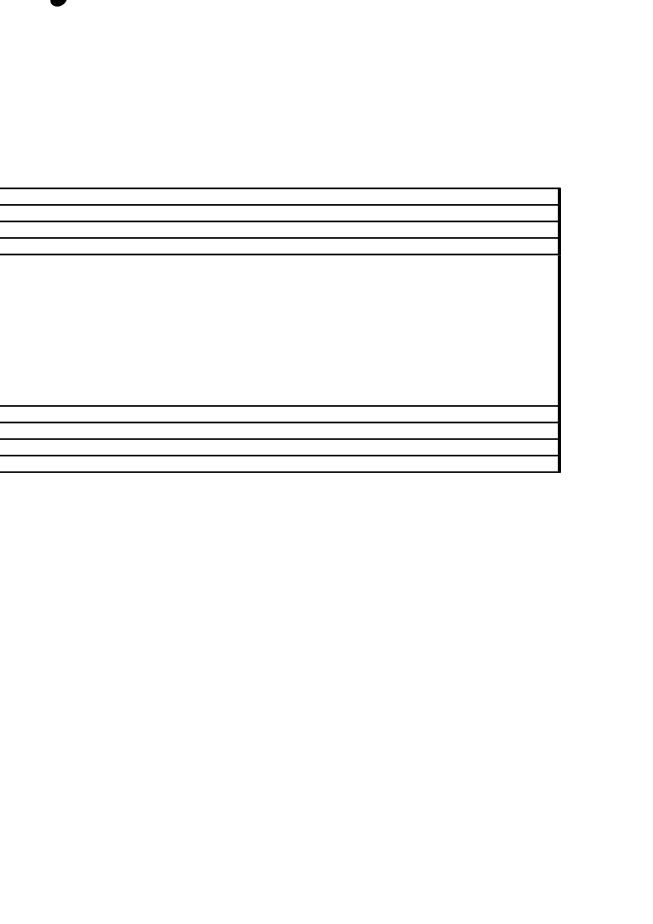Single_barline: (551, 188, 567, 253), (551, 407, 566, 471)
